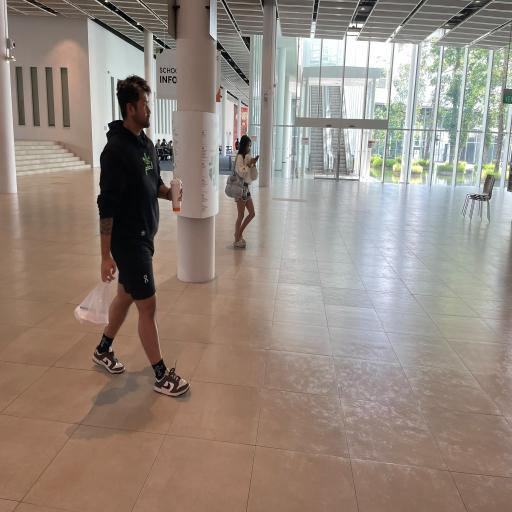person_right: (92, 76, 190, 398), (226, 134, 260, 250)
